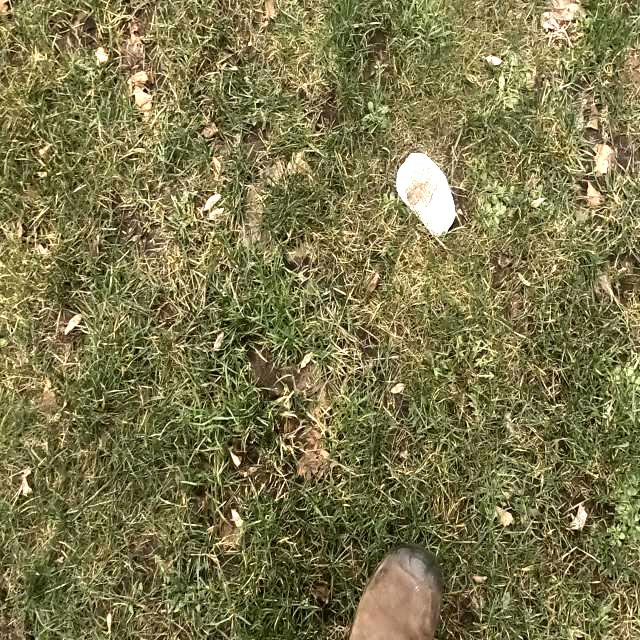Metal: (396, 150, 456, 240)
